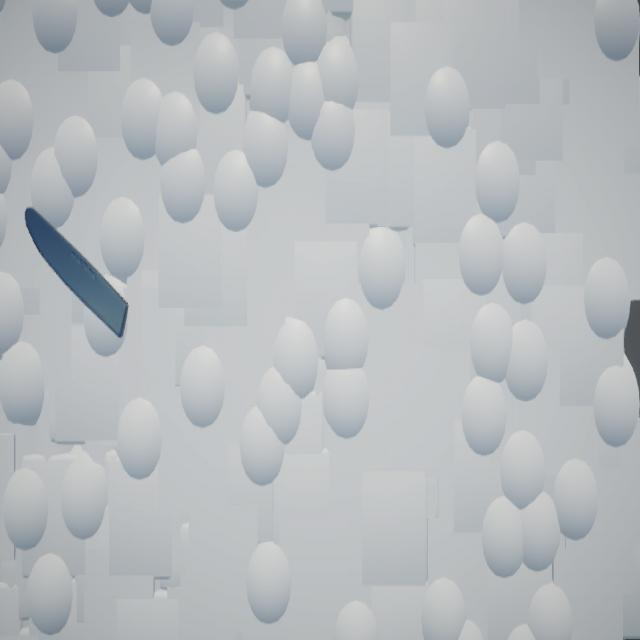top_knife: (26, 208, 130, 339)
